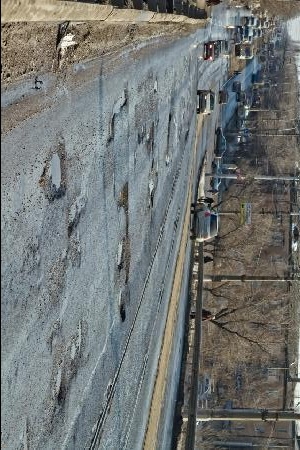pothole: (54, 318, 85, 407), (39, 139, 69, 202), (104, 85, 129, 146), (65, 200, 83, 238), (144, 173, 159, 212), (123, 230, 132, 284), (115, 180, 130, 212), (115, 233, 126, 270), (143, 122, 156, 152), (117, 299, 128, 322), (153, 76, 161, 93), (164, 152, 172, 167)
